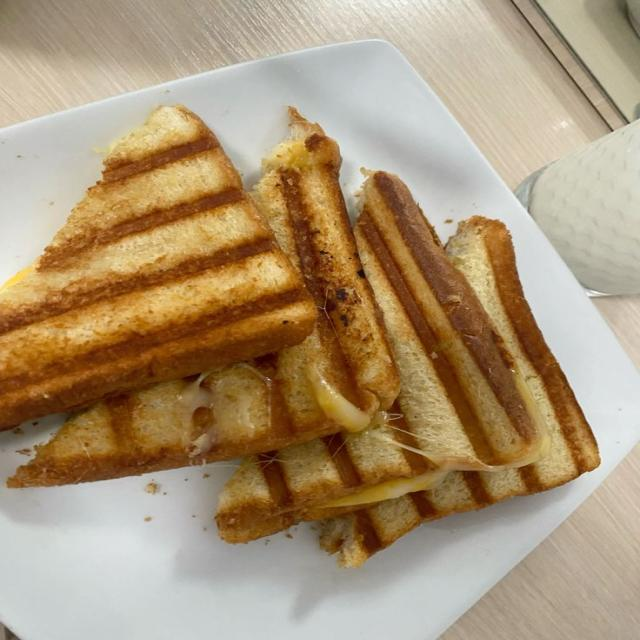toast bread: (0, 105, 314, 429), (321, 216, 599, 566), (194, 108, 399, 508), (331, 171, 543, 502)
